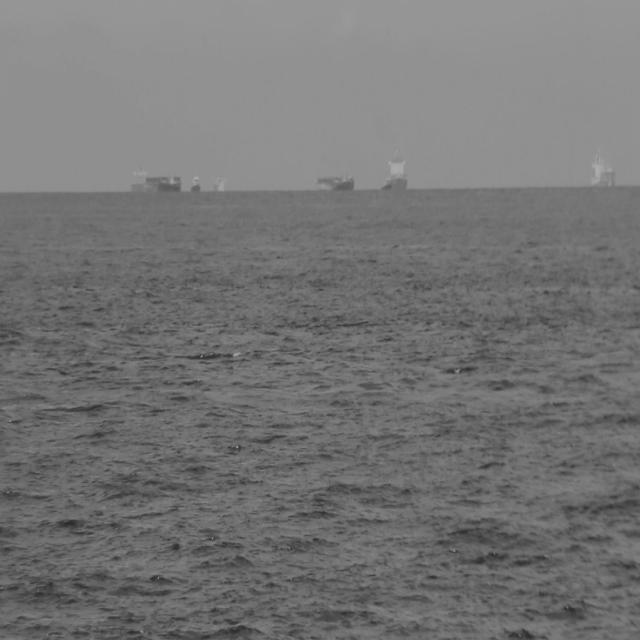ship: (129, 163, 182, 194), (378, 148, 408, 194), (589, 146, 616, 190), (316, 174, 355, 193), (188, 173, 202, 194)
